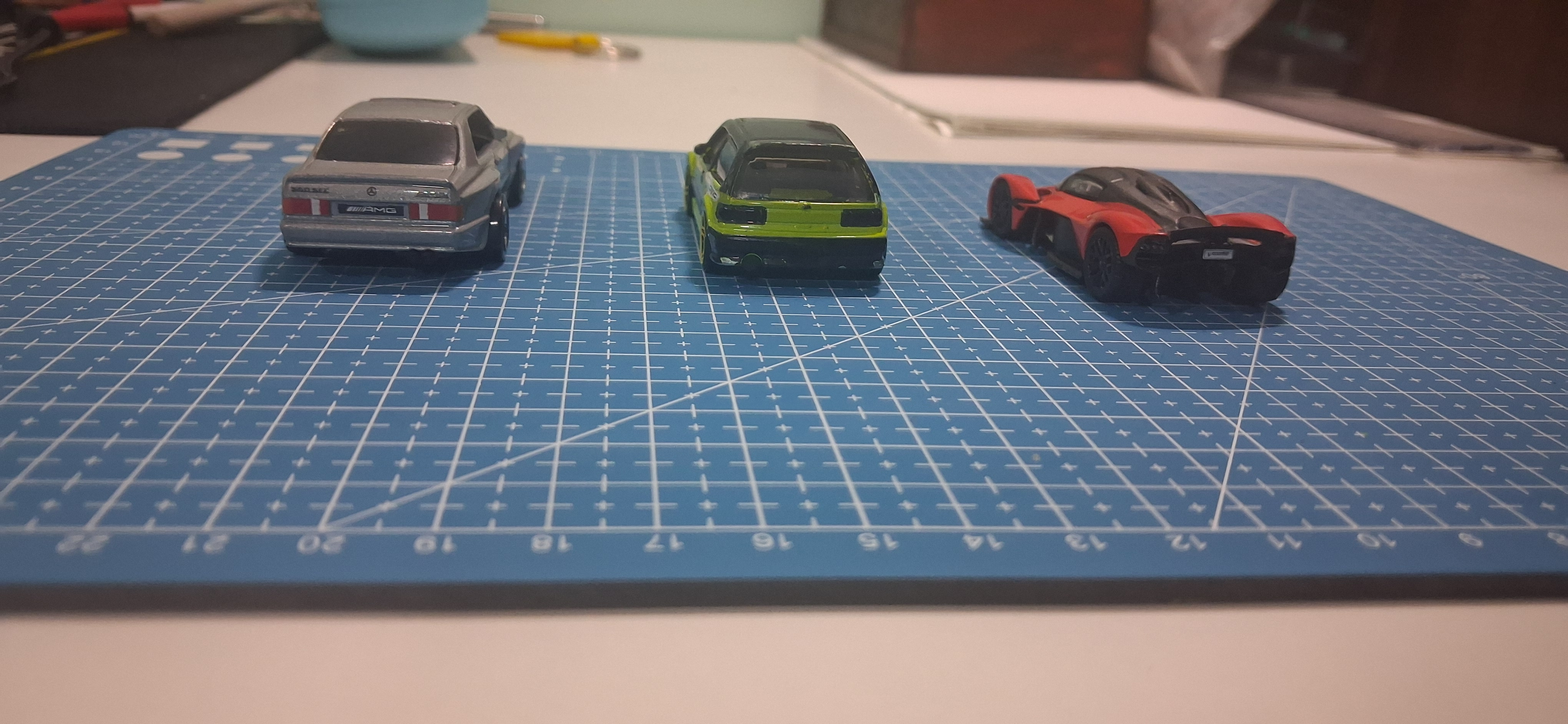Aston_Martin_Valkyrie: (961, 139, 1309, 354)
Honda_Civic: (660, 92, 909, 313)
Mercedes_Benz_560_SEC_AMG: (242, 60, 556, 288)
